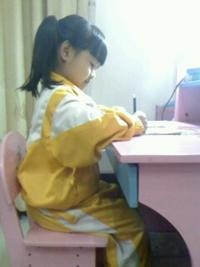person without safety: (23, 11, 141, 142)
